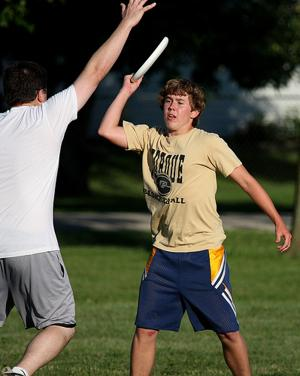person: (98, 70, 292, 376)
